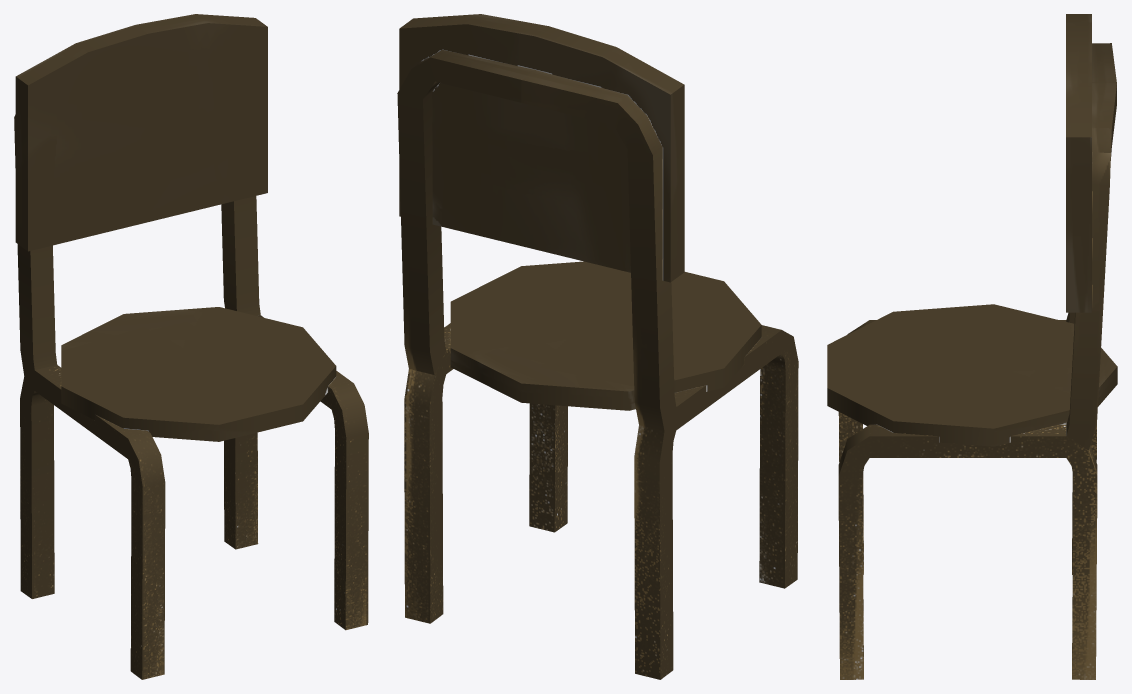
File: Cadeira.fbx
3 views of the same model, side by side, from view 1: azimuth 30°, elevation 25°; view 2: azimuth 150°, elevation 25°; view 3: azimuth 270°, elevation 25° (orthographic). The views are drawn at different scales.
Parts seen in each view (by area): view 1: Cube; view 2: Cube; view 3: Cube.
Boxes of the visible parts, box(x1,y1,x2,y2) form: Cube: box(14, 14, 368, 679); Cube: box(397, 14, 798, 679); Cube: box(827, 14, 1117, 679).
Bounding box in the file's own units: 197 × 420 × 194.
Materials: 2 (2 with a texture image).
